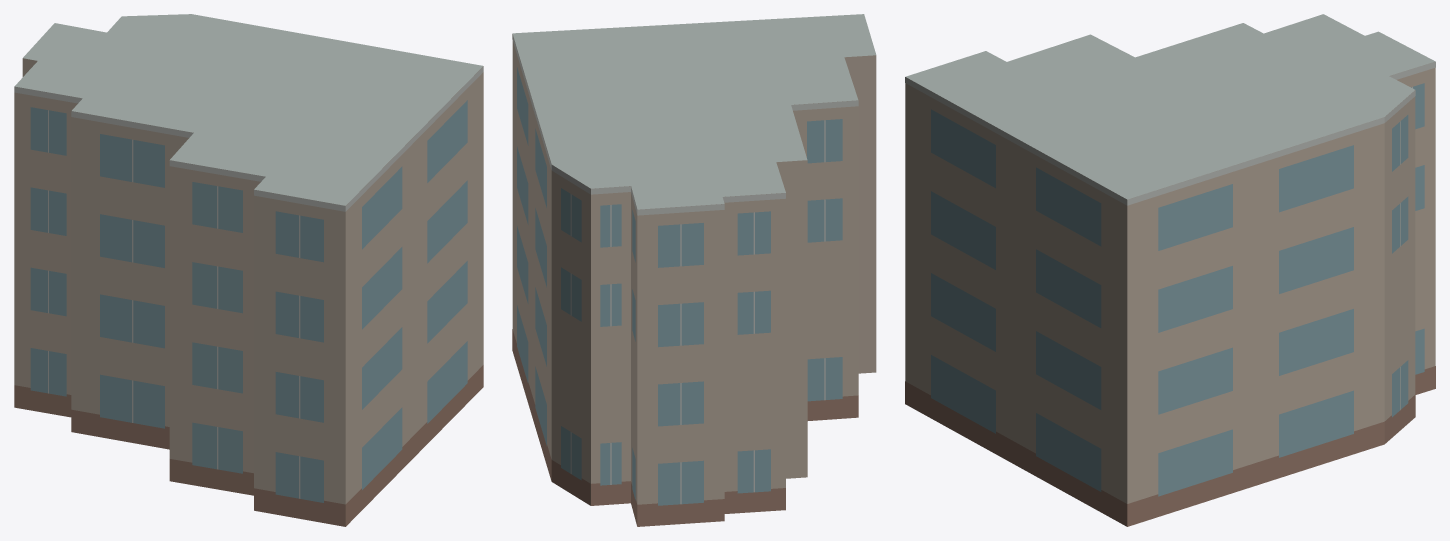
File: survey-upis-32920524.glb
The picture shows the model from 3 angles, left to right: view 1: azimuth 30°, elevation 25°; view 2: azimuth 150°, elevation 25°; view 3: azimuth 270°, elevation 25°; orthographic projection. The views are drawn at different scales.
Parts seen in each view (by area): view 1: survey-upis-32920524.tmp; view 2: survey-upis-32920524.tmp; view 3: survey-upis-32920524.tmp.
Boxes of the visible parts, x1=… form: survey-upis-32920524.tmp: x1=14, y1=14, x2=483, y2=526; survey-upis-32920524.tmp: x1=512, y1=14, x2=876, y2=526; survey-upis-32920524.tmp: x1=905, y1=14, x2=1435, y2=526.
Size of the model in its own units: 15.82 by 13 by 19.11.
